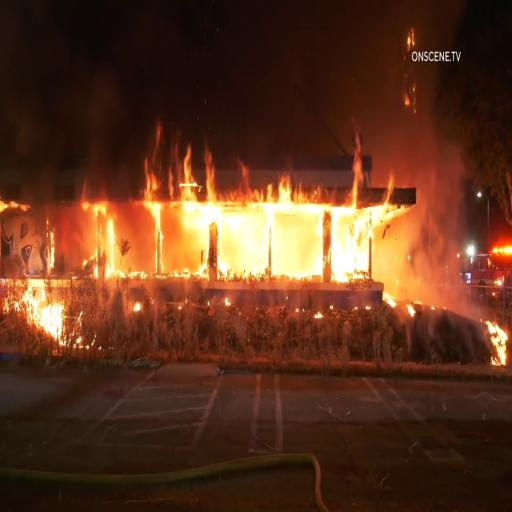fire: (145, 124, 214, 249), (221, 172, 271, 266), (335, 190, 389, 272), (279, 195, 319, 274), (37, 287, 72, 336)
smoke: (394, 139, 462, 280)
